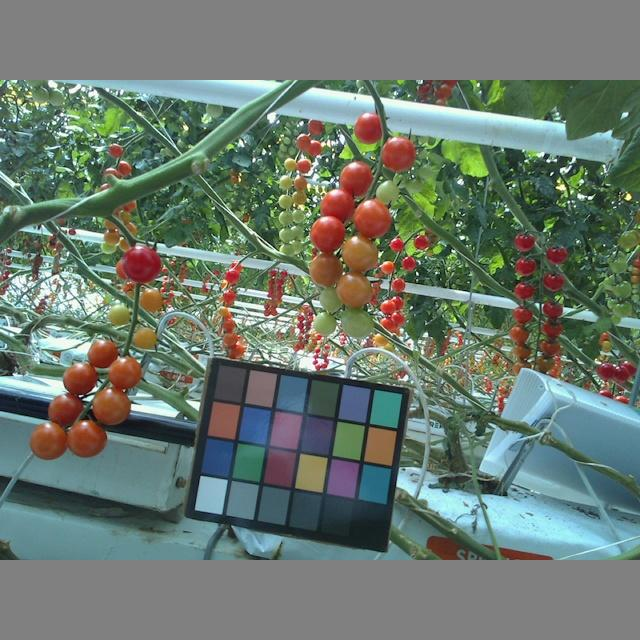green: (341, 307, 373, 338), (316, 287, 342, 311), (313, 311, 336, 335), (281, 155, 297, 172), (277, 173, 292, 189), (281, 225, 294, 243), (292, 190, 307, 205), (277, 193, 293, 207), (277, 211, 292, 224)
pink: (349, 198, 393, 239), (90, 387, 133, 426), (66, 419, 111, 456), (29, 421, 70, 461), (339, 235, 380, 272), (308, 249, 345, 290), (46, 395, 86, 430), (335, 273, 375, 307), (60, 361, 101, 394), (107, 357, 146, 388), (86, 337, 119, 370), (136, 285, 163, 312), (105, 303, 133, 326), (134, 324, 158, 349), (508, 324, 531, 343), (304, 117, 324, 137), (513, 342, 534, 360), (541, 340, 562, 357), (305, 139, 321, 157), (294, 157, 311, 173), (291, 174, 307, 189), (295, 131, 308, 149)
red: (122, 242, 162, 285), (337, 160, 377, 199), (310, 215, 346, 254), (318, 189, 355, 225), (380, 136, 417, 171), (352, 106, 385, 144), (511, 231, 538, 251), (542, 270, 566, 292), (512, 256, 535, 278), (540, 319, 564, 340), (511, 303, 533, 323), (542, 299, 563, 319), (512, 281, 535, 299), (545, 247, 569, 264), (596, 361, 614, 380), (381, 297, 395, 317), (414, 233, 429, 249), (391, 278, 407, 292), (400, 256, 416, 269)
